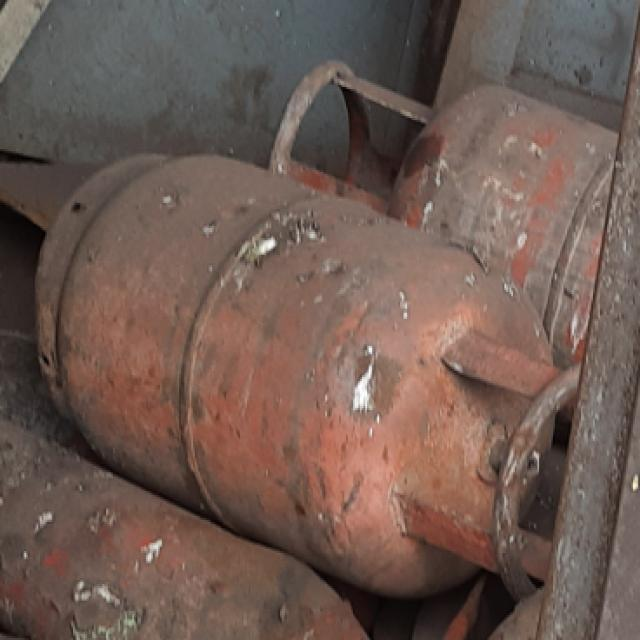cylinder: (35, 153, 583, 606), (269, 60, 619, 370)
